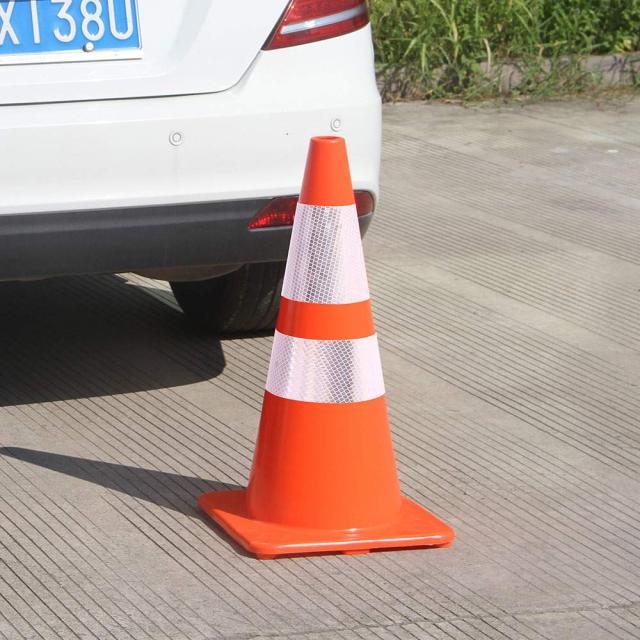Traffic Cone: (186, 99, 467, 574)
